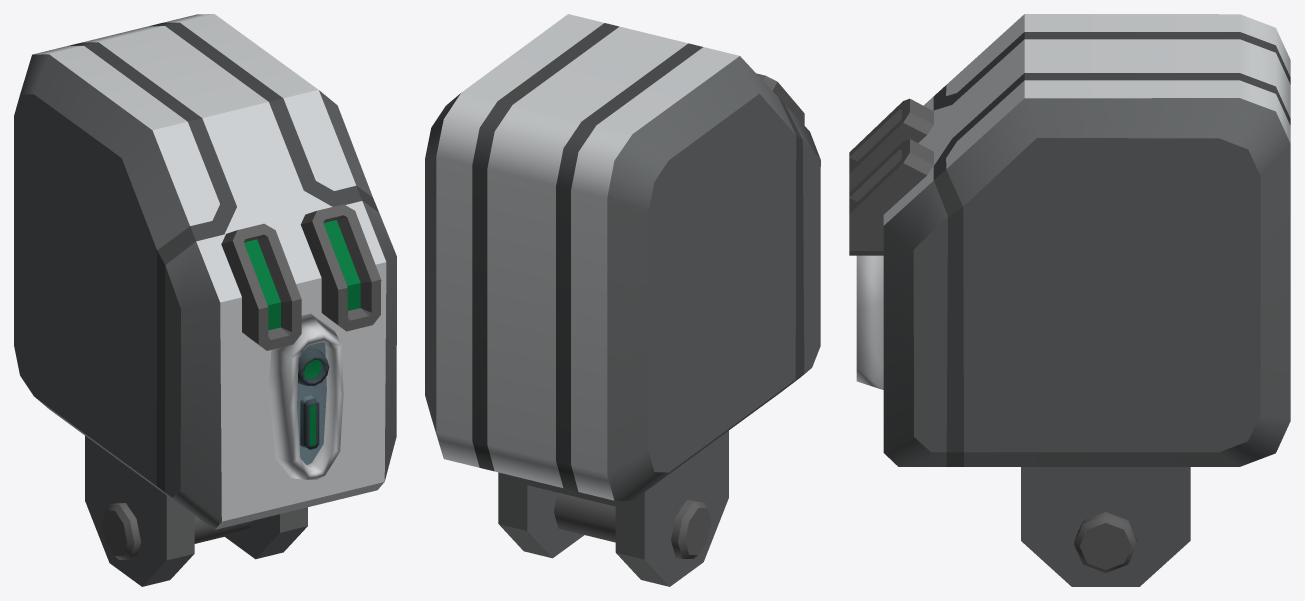
Rendered from Turret_011_Part_03.fbx.
3 views of the same model, side by side, from view 1: azimuth 30°, elevation 25°; view 2: azimuth 150°, elevation 25°; view 3: azimuth 270°, elevation 25° (orthographic). The views are drawn at different scales.
Parts seen in each view (by area): view 1: Turret_011_Part_03; view 2: Turret_011_Part_03; view 3: Turret_011_Part_03.
Boxes of the visible parts, <box> form: Turret_011_Part_03: <box>14,14,396,586</box>; Turret_011_Part_03: <box>425,14,820,586</box>; Turret_011_Part_03: <box>849,14,1290,586</box>.
Size of the model in its own units: 48.15 by 82.06 by 101.
